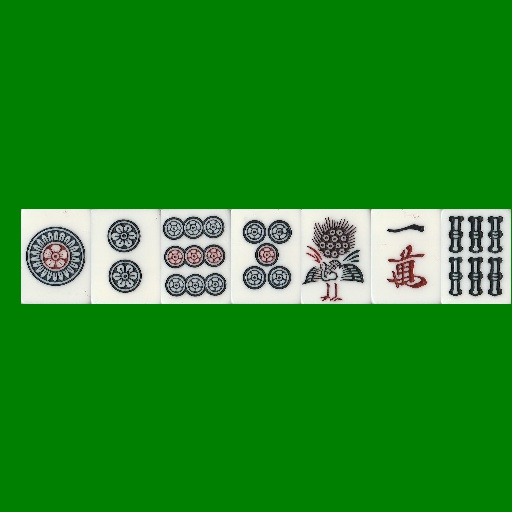1m: (371, 209, 441, 304)
1p: (21, 209, 91, 304)
1s: (301, 209, 371, 304)
2p: (91, 209, 161, 304)
5p: (231, 209, 301, 304)
6s: (441, 209, 511, 304)
9p: (161, 209, 231, 304)
